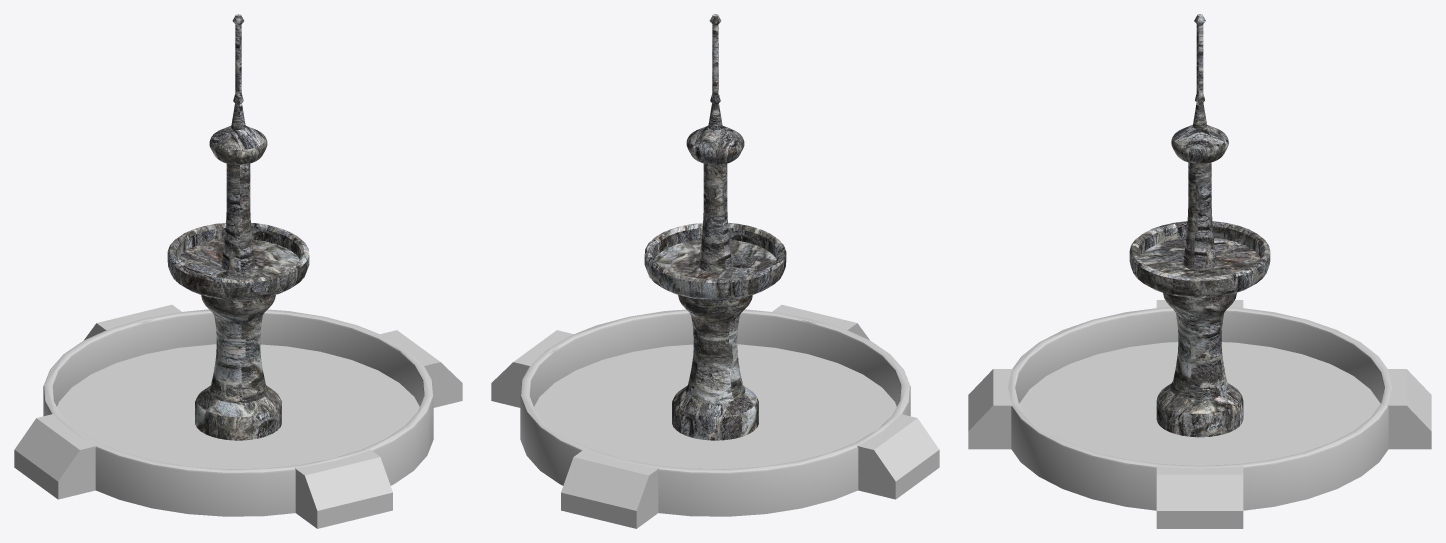
File: fountain.fbx
3 renders of one model, left to right at view 1: azimuth 30°, elevation 25°; view 2: azimuth 150°, elevation 25°; view 3: azimuth 270°, elevation 25°, orthographic.
Visible parts, largest first — view 1: Cylinder, Cylinder.003; view 2: Cylinder, Cylinder.003; view 3: Cylinder, Cylinder.003.
Boxes of the visible parts, x1,y1,x2,y2 form: Cylinder: [14, 304, 462, 528]; Cylinder.003: [167, 14, 309, 440]; Cylinder: [491, 304, 939, 528]; Cylinder.003: [644, 14, 786, 440]; Cylinder: [968, 300, 1431, 528]; Cylinder.003: [1129, 14, 1270, 437].
Bounding box in the file's own units: 1069 × 1059 × 1069.
